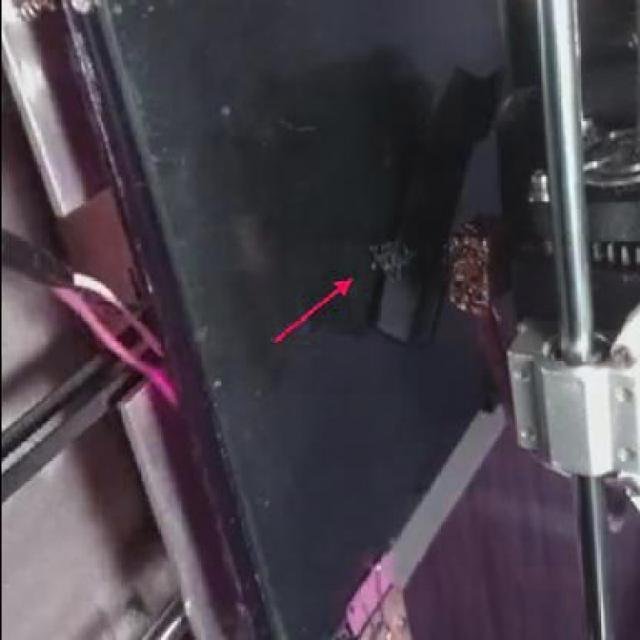spaghetti: (369, 240, 415, 286)
